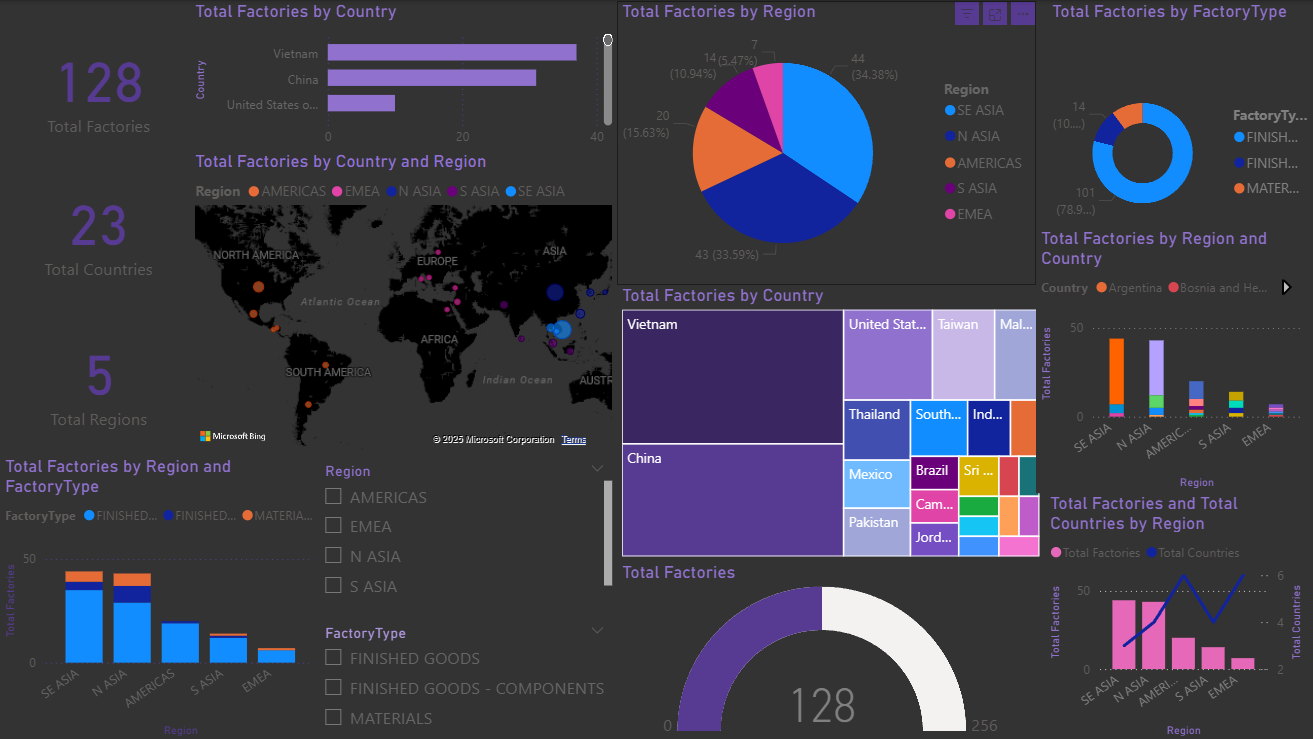

The page's visual inventory and layout, read from the dashboard file:
{"tool":"powerbi","page":{"name":"Page 1","canvas":[1280,720],"ordinal":0},"visuals":[{"type":"card","fields":{"Values":["nike_bi dim_country.Total Factories"]},"box":[0,0,192,166],"z":0},{"type":"card","fields":{"Values":["nike_bi dim_country.Total Countries"]},"box":[0,149.9,191.8,143.6],"z":1000},{"type":"card","fields":{"Values":["nike_bi dim_country.Total Regions"]},"box":[0,293.2,192.3,150.3],"z":2000},{"type":"clusteredBarChart","fields":{"Category":["nike_bi fct_nike_factories.Country"],"Y":["nike_bi dim_country.Total Factories"]},"box":[184.4,0,415.6,150],"z":3000},{"type":"map","fields":{"Category":["nike_bi fct_nike_factories.Country"],"Series":["nike_bi fct_nike_factories.Region"],"Size":["nike_bi dim_country.Total Factories"]},"box":[185,146.1,415.1,297.4],"z":4000},{"type":"columnChart","fields":{"Category":["nike_bi fct_nike_factories.Region"],"Y":["nike_bi dim_country.Total Factories"],"Series":["nike_bi fct_nike_factories.FactoryType"]},"box":[0,443,312,277],"z":5000},{"type":"slicer","fields":{"Values":["nike_bi fct_nike_factories.Region"]},"box":[303.3,443.3,296.7,150],"z":6000},{"type":"pieChart","fields":{"Y":["nike_bi dim_country.Total Factories"],"Category":["nike_bi fct_nike_factories.Region"]},"box":[600,0,407.8,276.7],"z":7000},{"type":"treemap","fields":{"Group":["nike_bi fct_nike_factories.Country"],"Values":["nike_bi dim_country.Total Factories"]},"box":[600,276.7,415.6,268.9],"z":8000},{"type":"slicer","fields":{"Values":["nike_bi fct_nike_factories.FactoryType"]},"box":[303.3,601.1,296.7,118.9],"z":9000},{"type":"gauge","fields":{"Y":["nike_bi dim_country.Total Factories"]},"box":[600,545.6,415.6,174.4],"z":10000},{"type":"donutChart","fields":{"Category":["nike_bi fct_nike_factories.FactoryType"],"Y":["nike_bi dim_country.Total Factories"]},"box":[1018,0,262,277],"z":11000},{"type":"ribbonChart","fields":{"Category":["nike_bi fct_nike_factories.Region"],"Y":["nike_bi dim_country.Total Factories"],"Series":["nike_bi fct_nike_factories.Country"]},"box":[1007.5,221.2,262.5,257.5],"z":12000},{"type":"lineStackedColumnComboChart","fields":{"Category":["nike_bi fct_nike_factories.Region"],"Y":["nike_bi dim_country.Total Factories"],"Y2":["nike_bi dim_country.Total Countries"]},"box":[1016.2,478.8,255,241.2],"z":13000}]}

Visuals, with their boxes in screenshot pixels (x1, y1, x2, y2), scaled from the page's 1280x720 canvas onto the 1313x739 screenshot:
card - nike_bi dim_country.Total Factories: (0,0,197,170)
card - nike_bi dim_country.Total Countries: (0,154,197,301)
card - nike_bi dim_country.Total Regions: (0,301,197,455)
clusteredBarChart - nike_bi fct_nike_factories.Country x nike_bi dim_country.Total Factories: (189,0,615,154)
map - nike_bi fct_nike_factories.Country x nike_bi fct_nike_factories.Region: (190,150,616,455)
columnChart - nike_bi fct_nike_factories.Region x nike_bi dim_country.Total Factories: (0,455,320,738)
slicer - nike_bi fct_nike_factories.Region: (311,455,615,609)
pieChart - nike_bi dim_country.Total Factories x nike_bi fct_nike_factories.Region: (615,0,1034,284)
treemap - nike_bi fct_nike_factories.Country x nike_bi dim_country.Total Factories: (615,284,1042,560)
slicer - nike_bi fct_nike_factories.FactoryType: (311,617,615,738)
gauge - nike_bi dim_country.Total Factories: (615,560,1042,738)
donutChart - nike_bi fct_nike_factories.FactoryType x nike_bi dim_country.Total Factories: (1044,0,1312,284)
ribbonChart - nike_bi fct_nike_factories.Region x nike_bi dim_country.Total Factories: (1033,227,1303,491)
lineStackedColumnComboChart - nike_bi fct_nike_factories.Region x nike_bi dim_country.Total Factories: (1042,491,1304,738)
